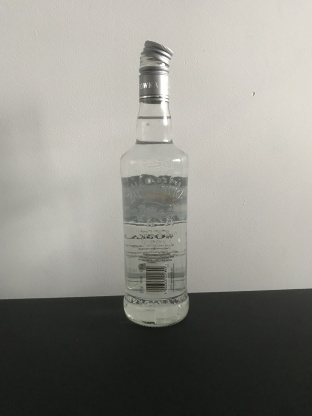nakretka: (137, 38, 174, 104)
